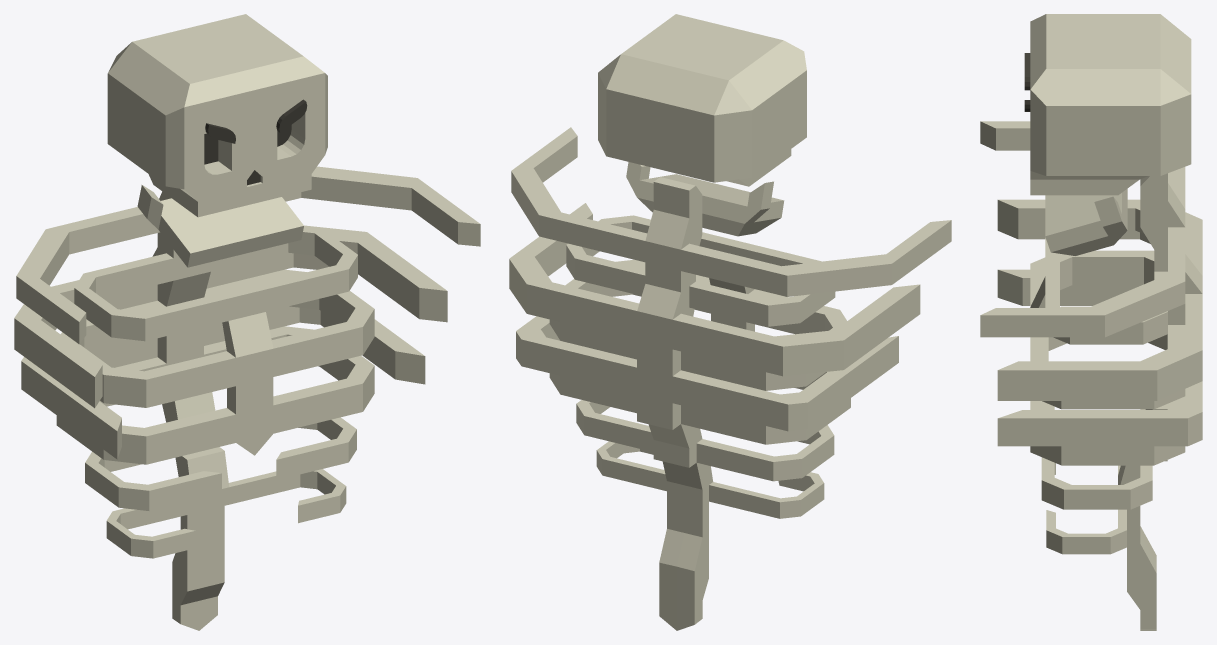
File: SkelebonesWizard.fbx
The picture shows the model from 3 angles, left to right: view 1: azimuth 30°, elevation 25°; view 2: azimuth 150°, elevation 25°; view 3: azimuth 270°, elevation 25°; orthographic projection. The views are drawn at different scales.
Parts seen in each view (by area): view 1: SkelebonesWizard; view 2: SkelebonesWizard; view 3: SkelebonesWizard.
Part boxes in pixels (<box>): SkelebonesWizard: <box>14,14,480,630</box>; SkelebonesWizard: <box>509,14,951,630</box>; SkelebonesWizard: <box>980,14,1202,630</box>.
Bounding box in the file's own units: 78.11 × 111 × 37.84.
